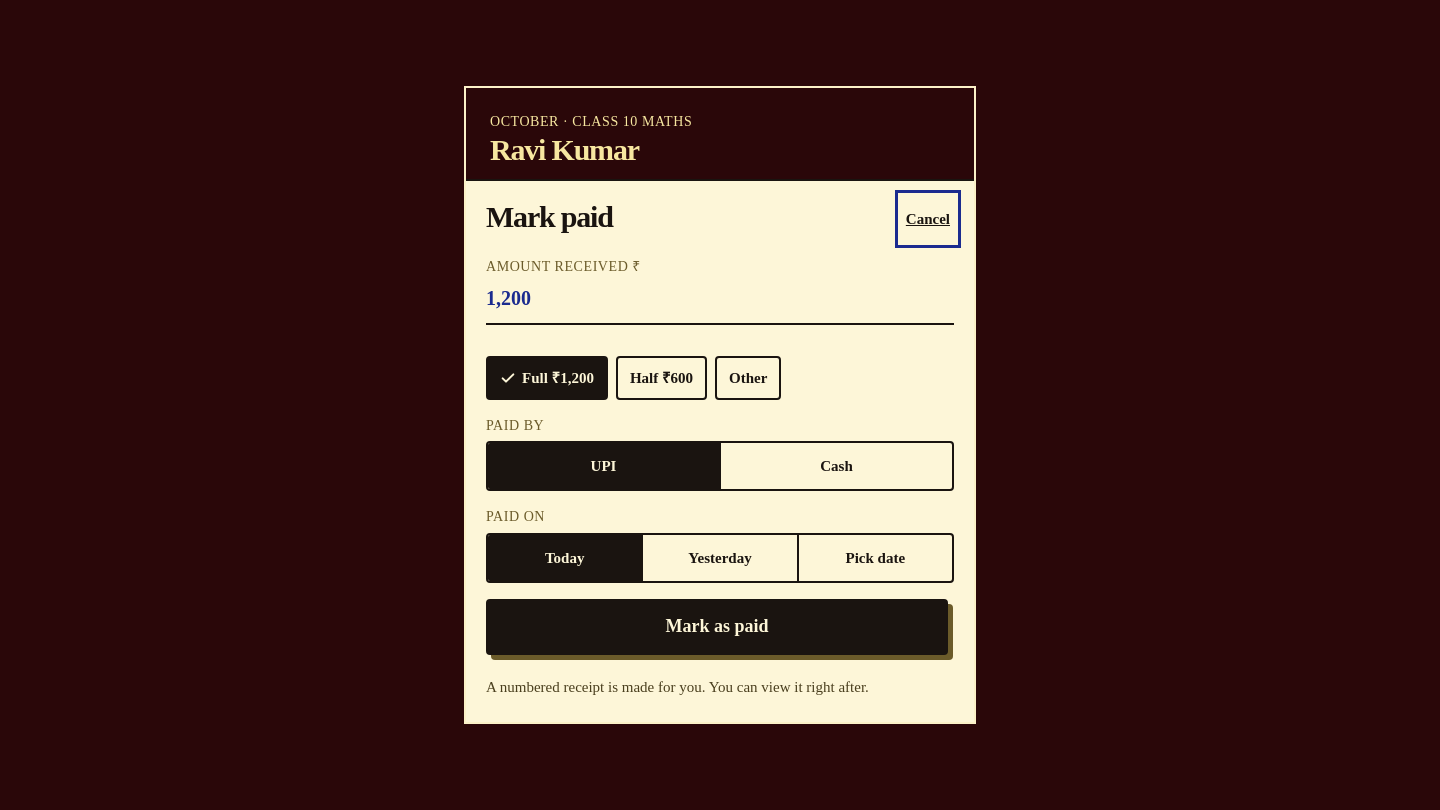
it: the amount (13) › refuses  with a message beside the field and sends nothing
Clear the text box labelled "Amount received ₹" at (720, 299), box [486, 277, 954, 321]
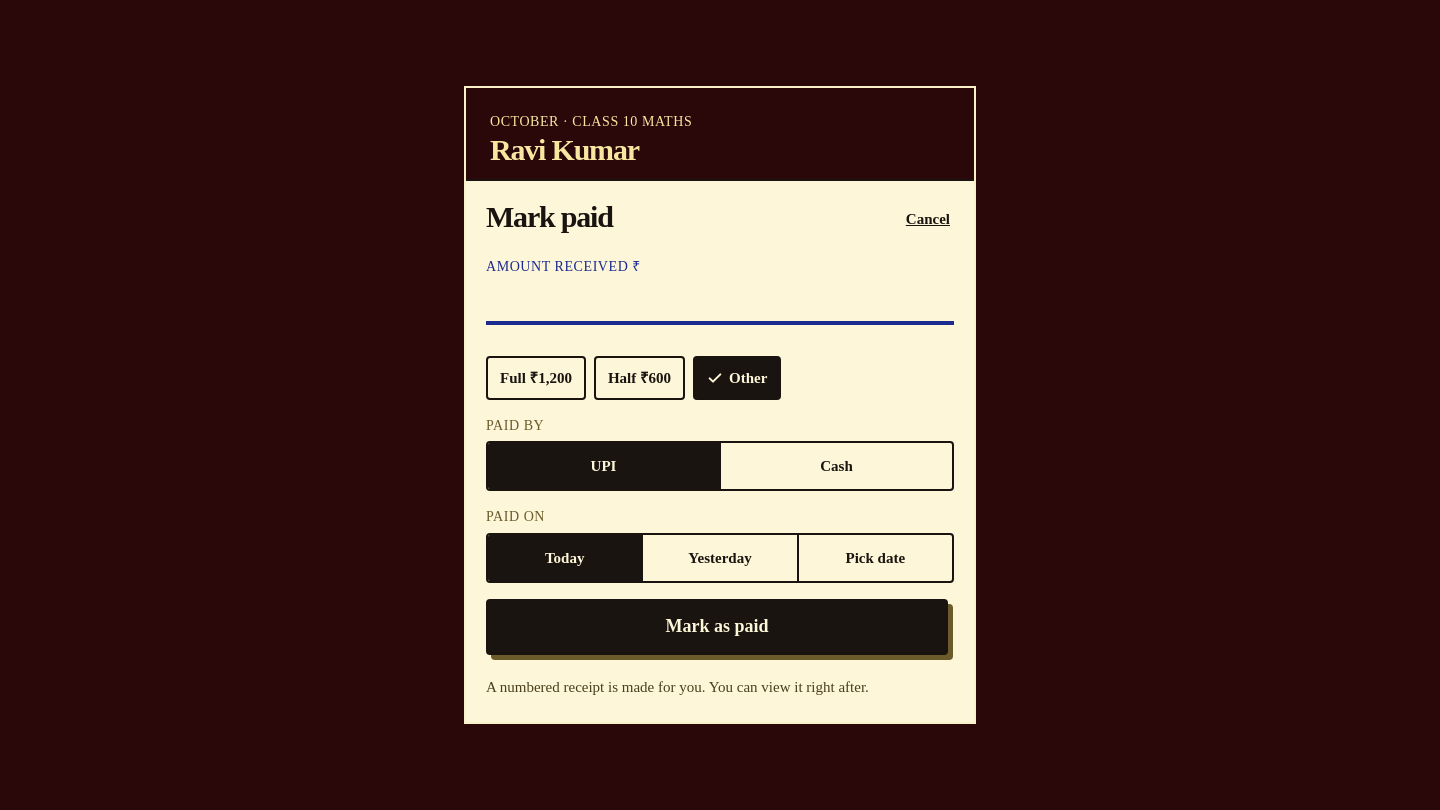
Click the button "Mark as paid" at (717, 627), box [486, 599, 948, 655]
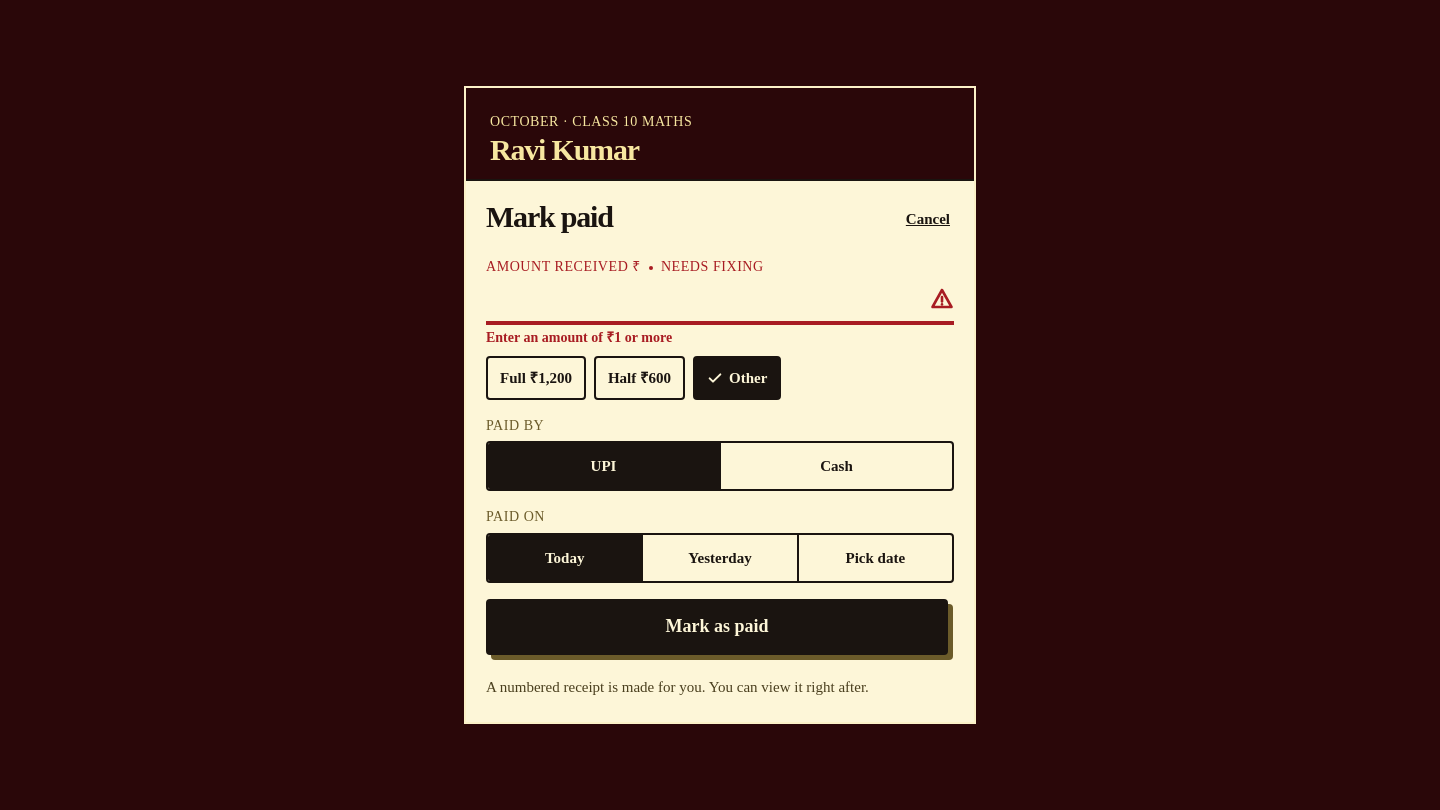
Check: the text "Enter an amount of ₹1 or more" is shown, box [486, 330, 672, 345]
